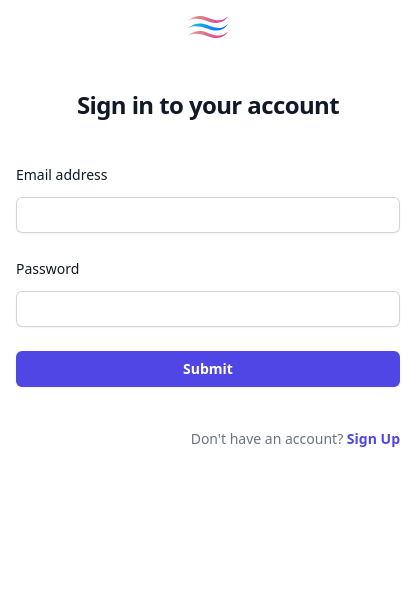
it: Sign Up submit button on click failed
Click the button "Sign Up" at point(373, 439), box [347,427,400,451]
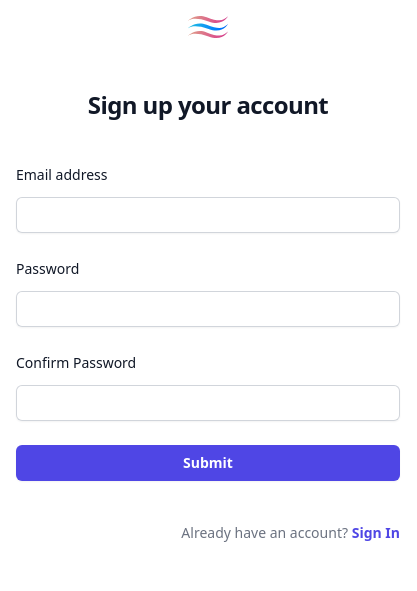
Type "alex@test.com" into the field labelled "Email address" at point(208, 215), box [16,197,400,233]
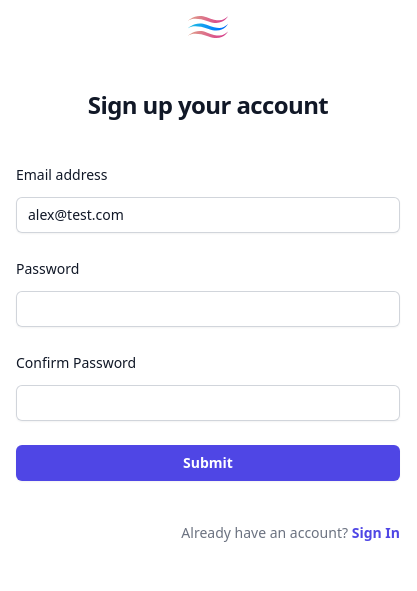
Type "123456" into the password field labelled "Password" at point(208, 309), box [16,291,400,327]
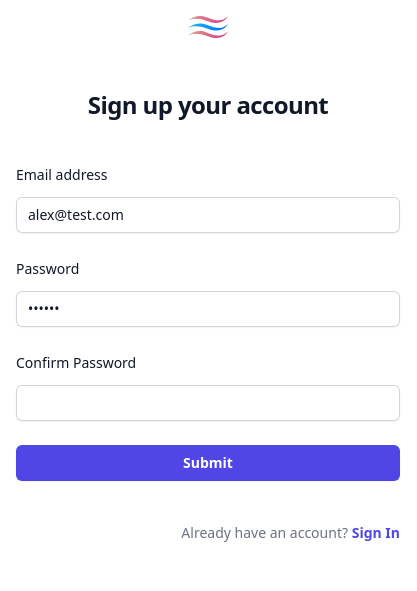
Result: the password field labelled "Confirm Password" is shown
Type "654321" into the password field labelled "Confirm Password" at point(208, 403), box [16,385,400,421]
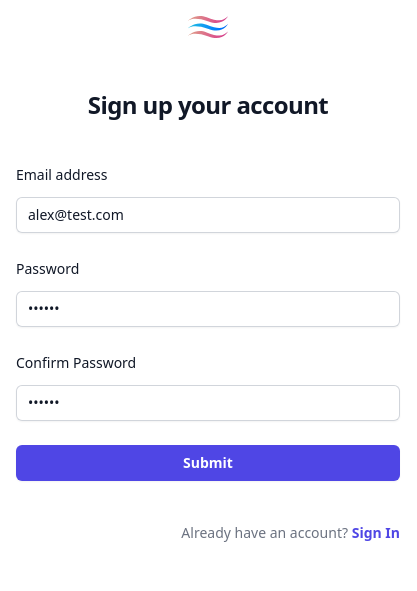
Click the button "Submit" at point(208, 463), box [16,445,400,481]
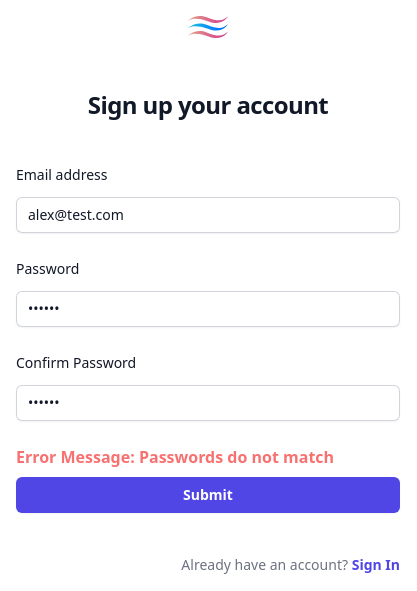
Result: the text "Error Message: Passwords do not match" is shown at [16,446,334,468]
